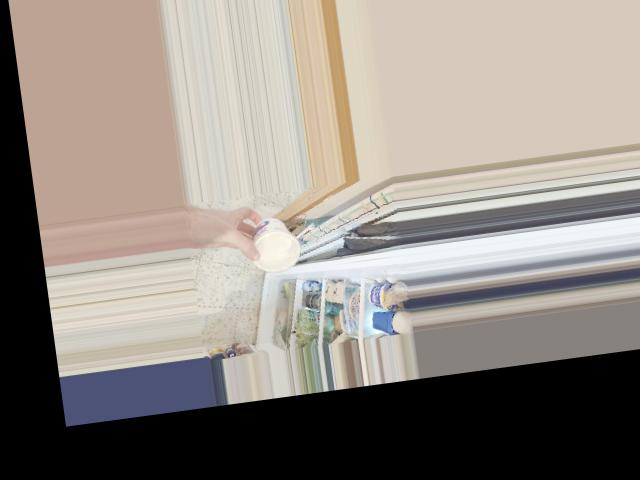cotage: (249, 214, 302, 271)
